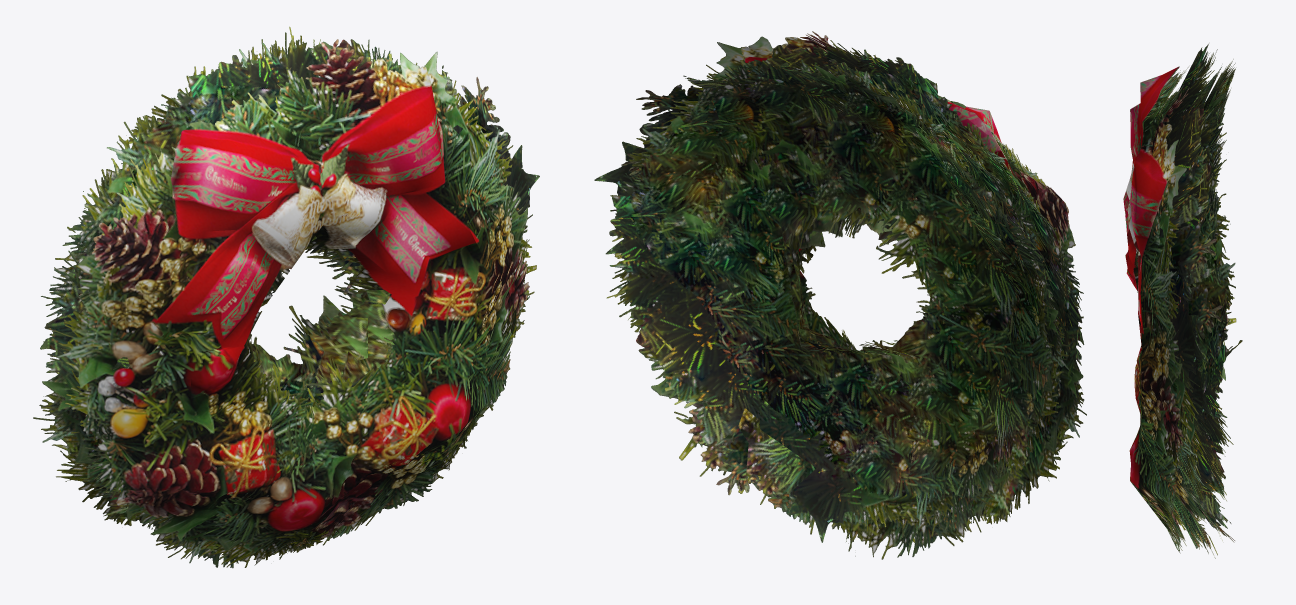
The model's file is wreath_1.FBX.
3 views of the same model, side by side, from view 1: azimuth 30°, elevation 25°; view 2: azimuth 150°, elevation 25°; view 3: azimuth 270°, elevation 25° (orthographic). The views are drawn at different scales.
Visible parts, largest first — view 1: wreath_1; view 2: wreath_1; view 3: wreath_1.
Boxes of the visible parts, <box> form: wreath_1: <box>33,26,539,568</box>; wreath_1: <box>594,31,1086,559</box>; wreath_1: <box>1123,44,1242,558</box>.
Size of the model in its own units: 105 by 105 by 30.14.
Materials: 1 (1 with a texture image).
